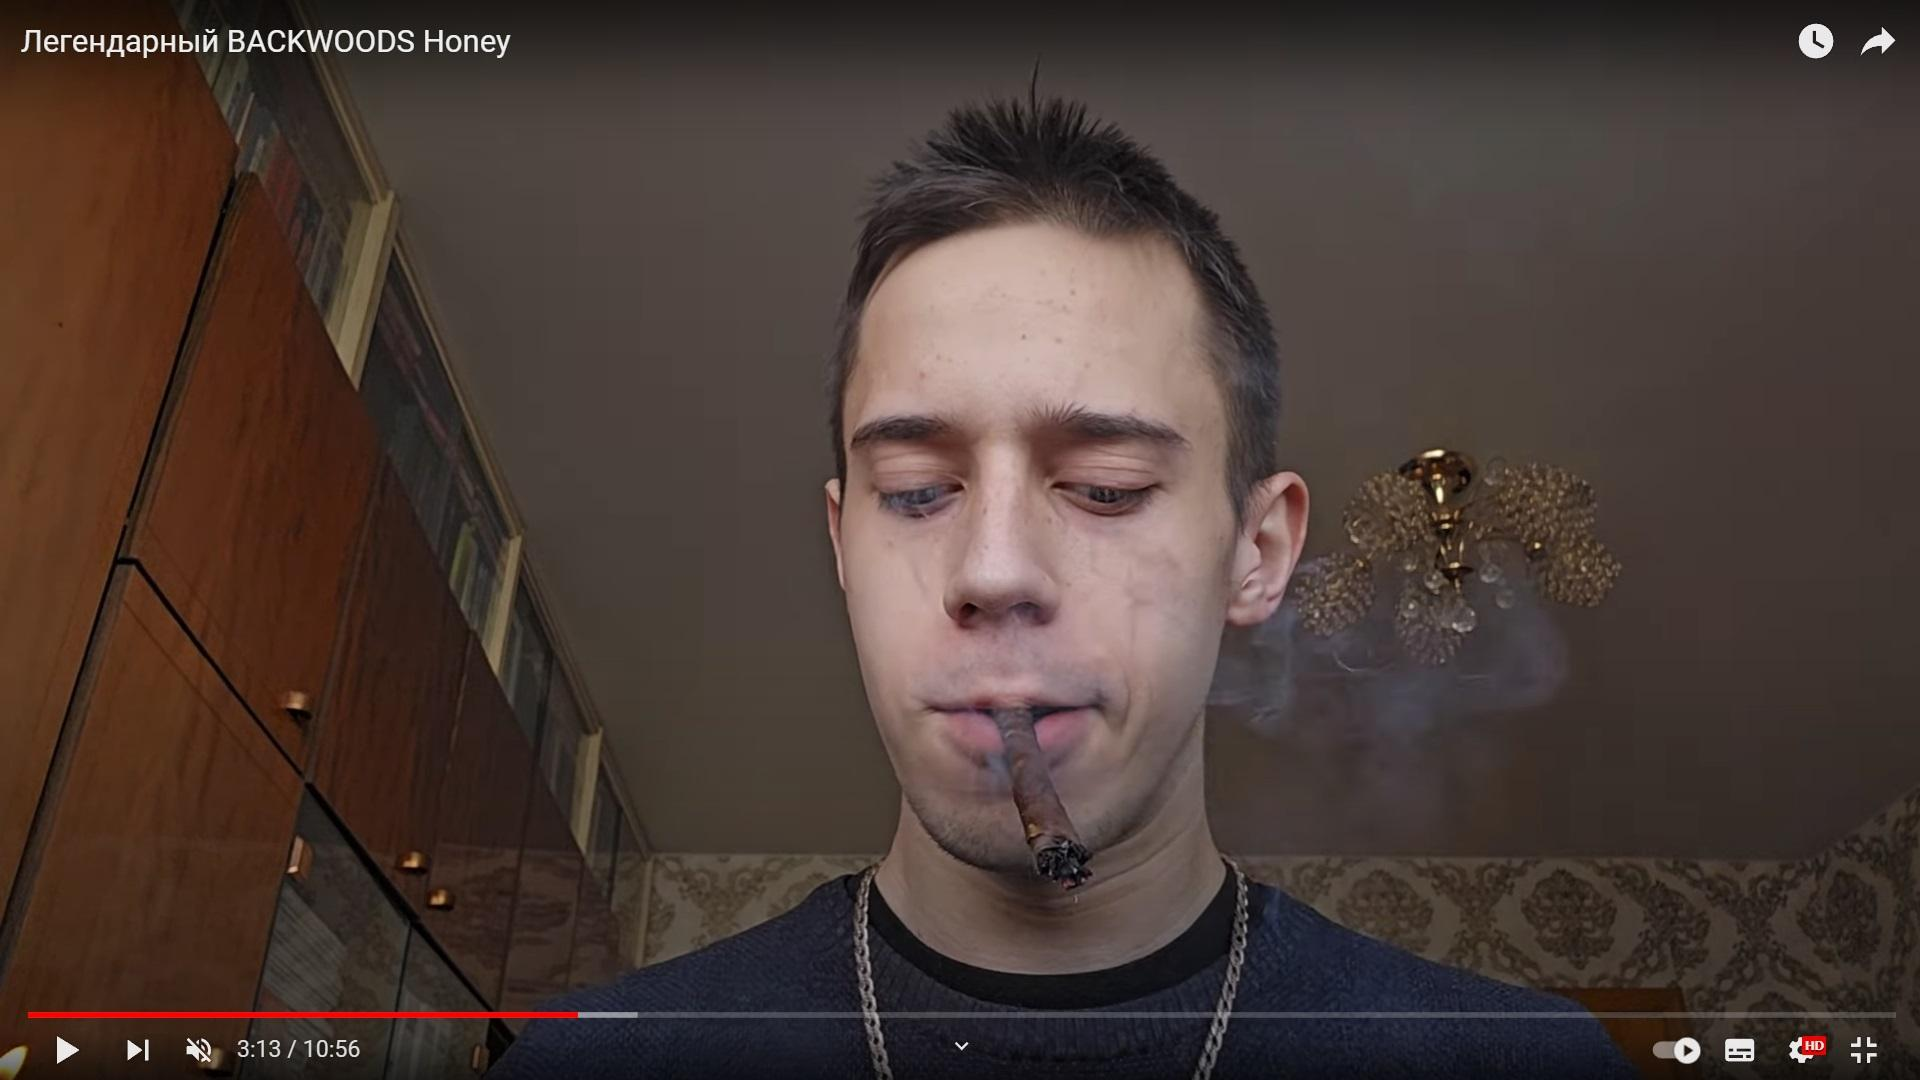cigarette: (992, 708, 1093, 890)
